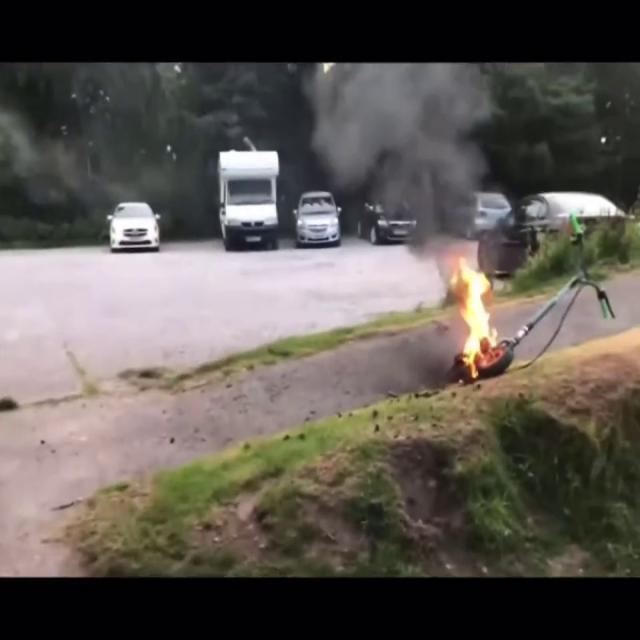Fire: (448, 253, 500, 374)
Smoke: (274, 62, 506, 250)
